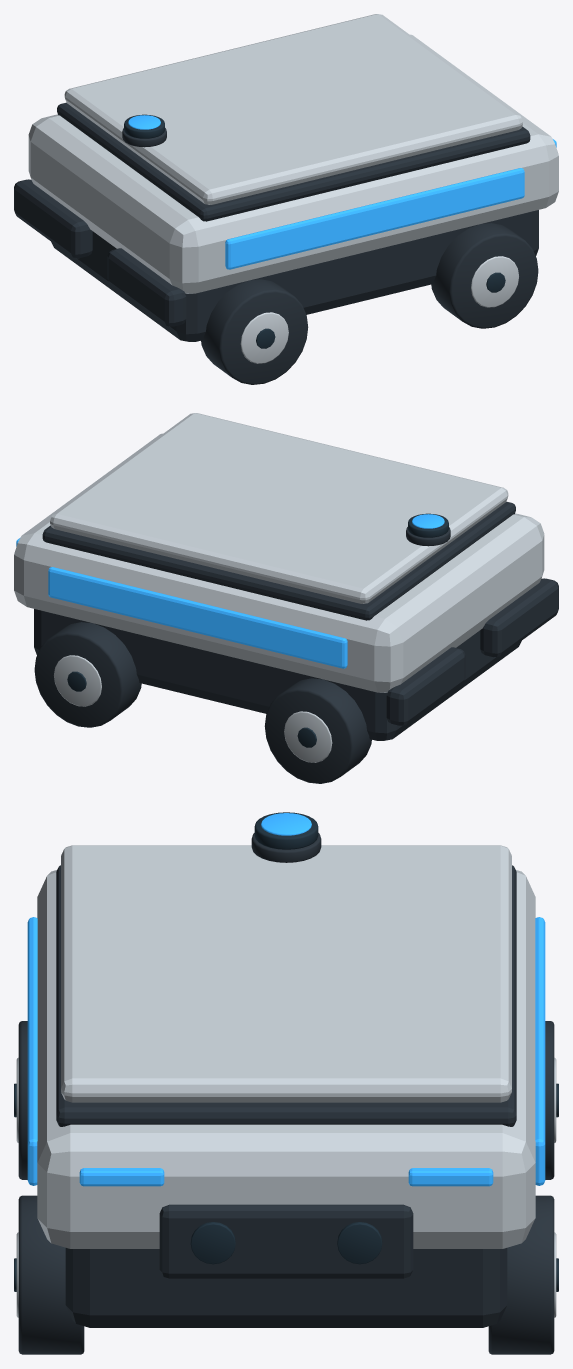
File: amr.glb
The picture shows the model from 3 angles, top to bottom: view 1: azimuth 30°, elevation 25°; view 2: azimuth 150°, elevation 25°; view 3: azimuth 270°, elevation 25°; orthographic projection. The views are drawn at different scales.
Parts seen in each view (by area): view 1: Body, Wheel_FR, Wheel_RR; view 2: Body, Wheel_FL, Wheel_RL; view 3: Body, Wheel_FL, Wheel_FR, Wheel_RL, Wheel_RR.
Boxes of the visible parts, left/top/right/bottom form: Body: left=14, top=14, right=558, bottom=341; Wheel_FR: left=431, top=223, right=538, bottom=328; Wheel_RR: left=201, top=279, right=308, bottom=384; Body: left=14, top=413, right=558, bottom=740; Wheel_FL: left=34, top=622, right=141, bottom=727; Wheel_RL: left=264, top=678, right=371, bottom=783; Body: left=27, top=812, right=545, bottom=1327; Wheel_FL: left=488, top=1195, right=558, bottom=1354; Wheel_FR: left=14, top=1195, right=84, bottom=1354; Wheel_RL: left=545, top=1021, right=558, bottom=1179; Wheel_RR: left=14, top=1021, right=27, bottom=1179.
Bounding box in the file's own units: 0.779 × 0.38 × 0.58.
